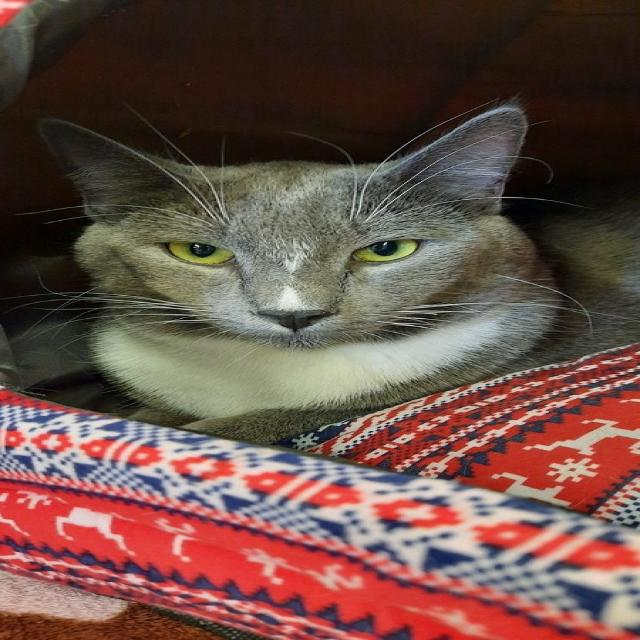russian_blue_cat: (23, 97, 570, 405)
